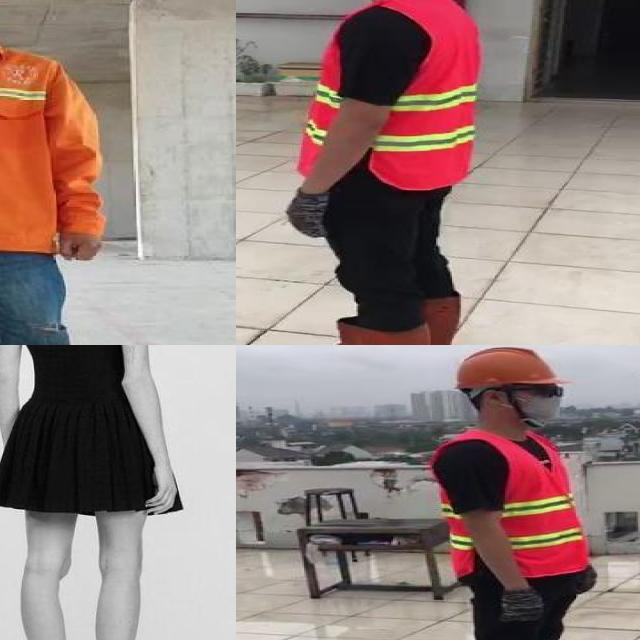boots: (286, 318, 430, 345)
face_mask: (520, 382, 564, 420)
glasses: (518, 382, 570, 402)
hand_glove: (281, 191, 335, 239), (487, 588, 544, 626)
hand_noglove: (138, 444, 188, 526), (47, 223, 108, 266)
head_helmet: (450, 345, 562, 388)
person: (283, 0, 494, 345), (422, 345, 612, 640), (0, 345, 188, 640), (0, 0, 157, 345)
vest: (290, 0, 484, 194), (425, 430, 592, 575)
